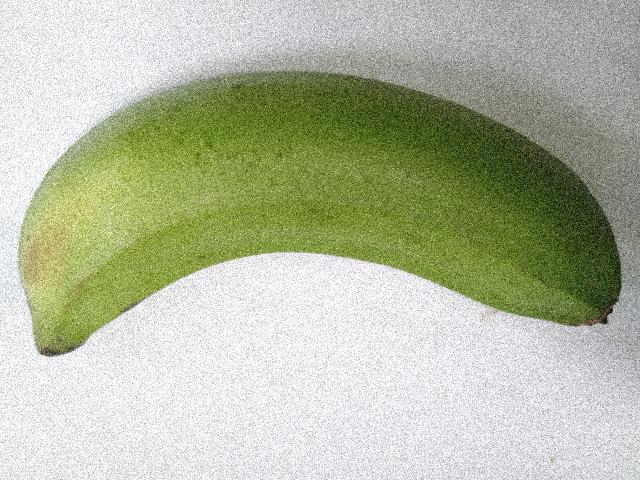freshunripe: (5, 51, 628, 368)
